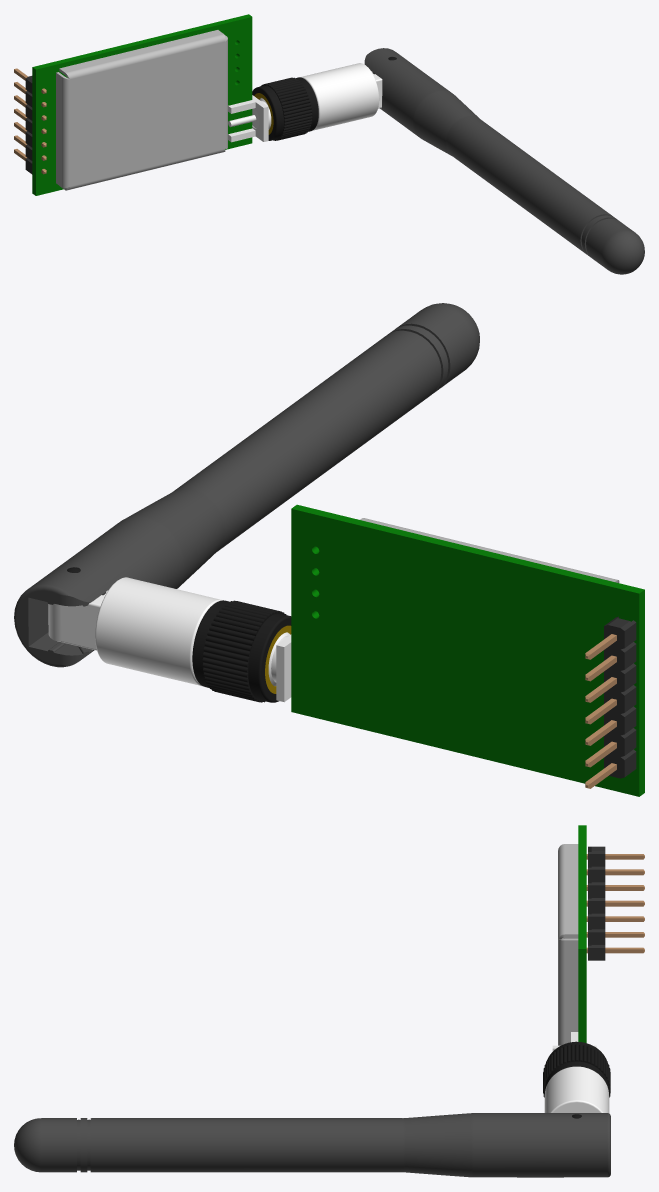
File: LoraUnity.fbx
The picture shows the model from 3 angles, top to bottom: view 1: azimuth 30°, elevation 25°; view 2: azimuth 150°, elevation 25°; view 3: azimuth 270°, elevation 25°; orthographic projection. The views are drawn at different scales.
Parts seen in each view (by area): view 1: Body1 (×4), Body11, Body2, Body3; view 2: Body2, Body1 (×4), Body3, Body11; view 3: Body1 (×3), Body11, Body3, Body2.
Part boxes in pixels (x1,y1,x2,y2): Body1 (×4): [228, 48, 644, 274]; Body11: [56, 30, 227, 190]; Body2: [32, 14, 252, 195]; Body3: [25, 76, 32, 174]; Body2: [291, 504, 644, 796]; Body1 (×4): [14, 303, 479, 702]; Body3: [604, 616, 636, 778]; Body11: [360, 518, 619, 582]; Body1 (×3): [14, 1041, 610, 1177]; Body11: [558, 844, 578, 1045]; Body3: [588, 846, 605, 960]; Body2: [578, 825, 586, 1042].
Size of the model in its own units: 75.4 by 24 by 92.92.
